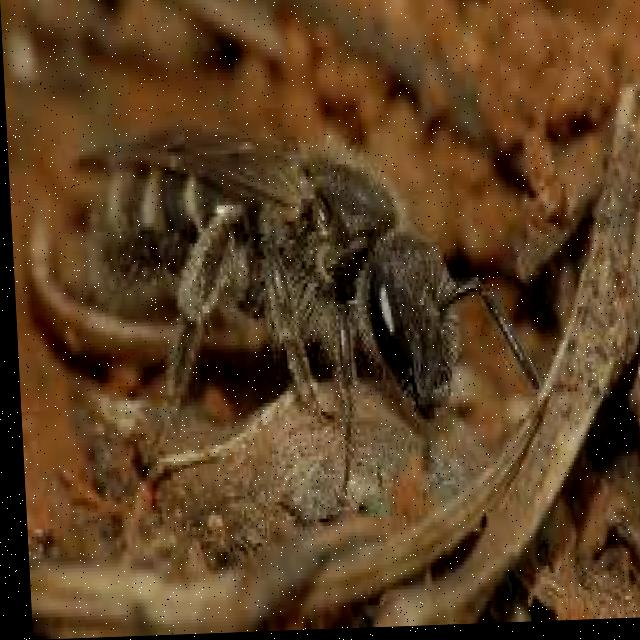Lasioglossum: (73, 91, 552, 500)
